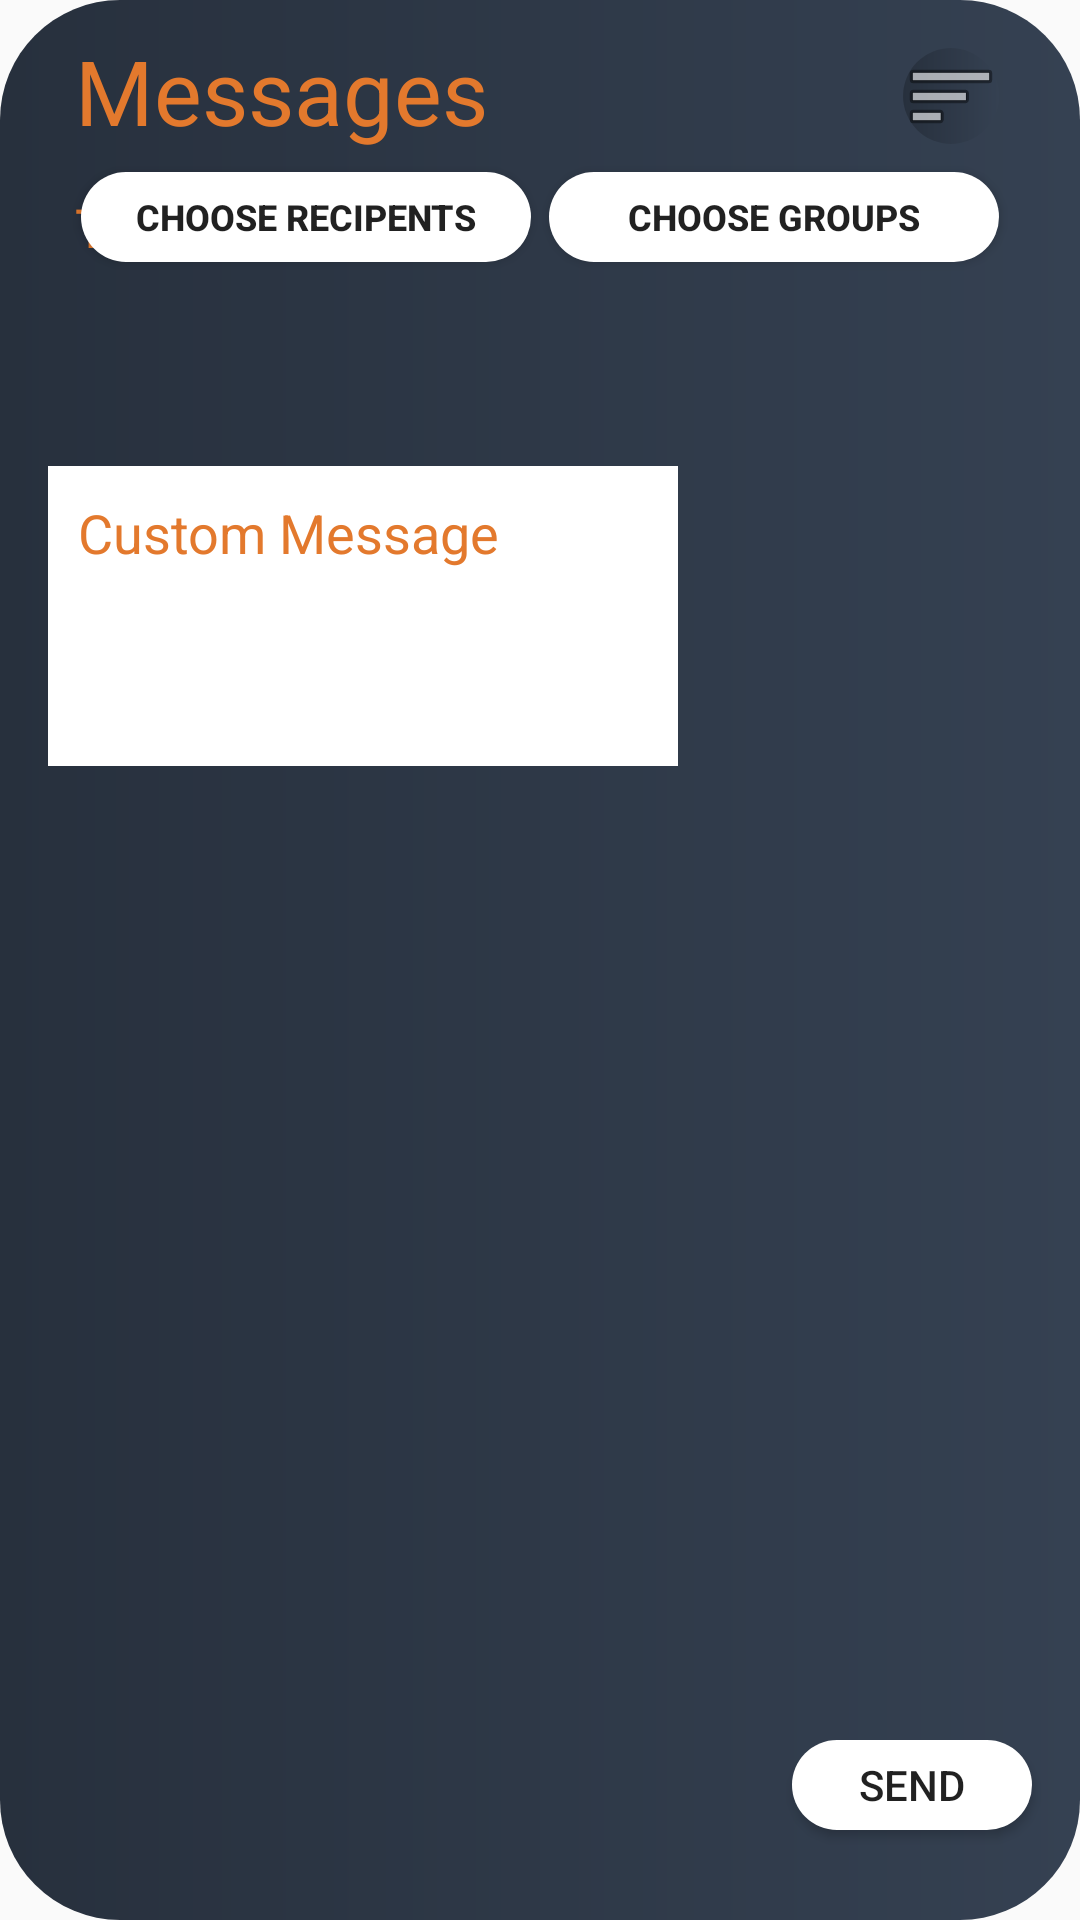

Icon bounding boxes for this 1080×1920 phone screenshot, format region(x1, y1, x2, y2):
sort by size: region(910, 70, 992, 123)
